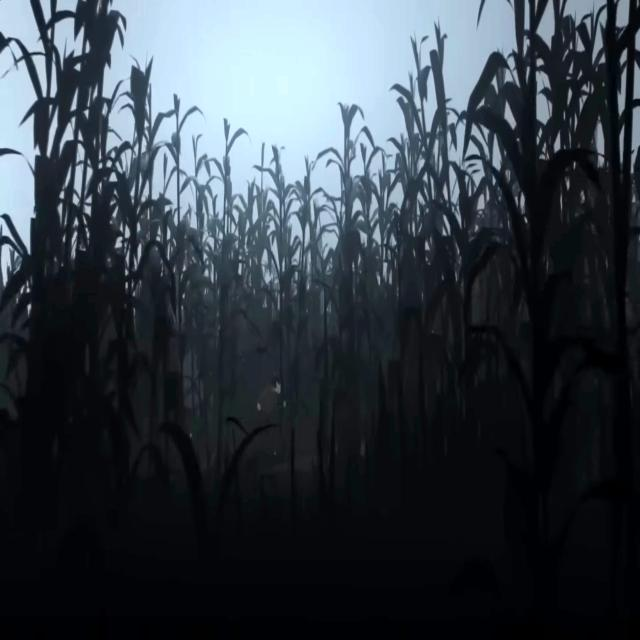boy: (255, 372, 286, 421)
